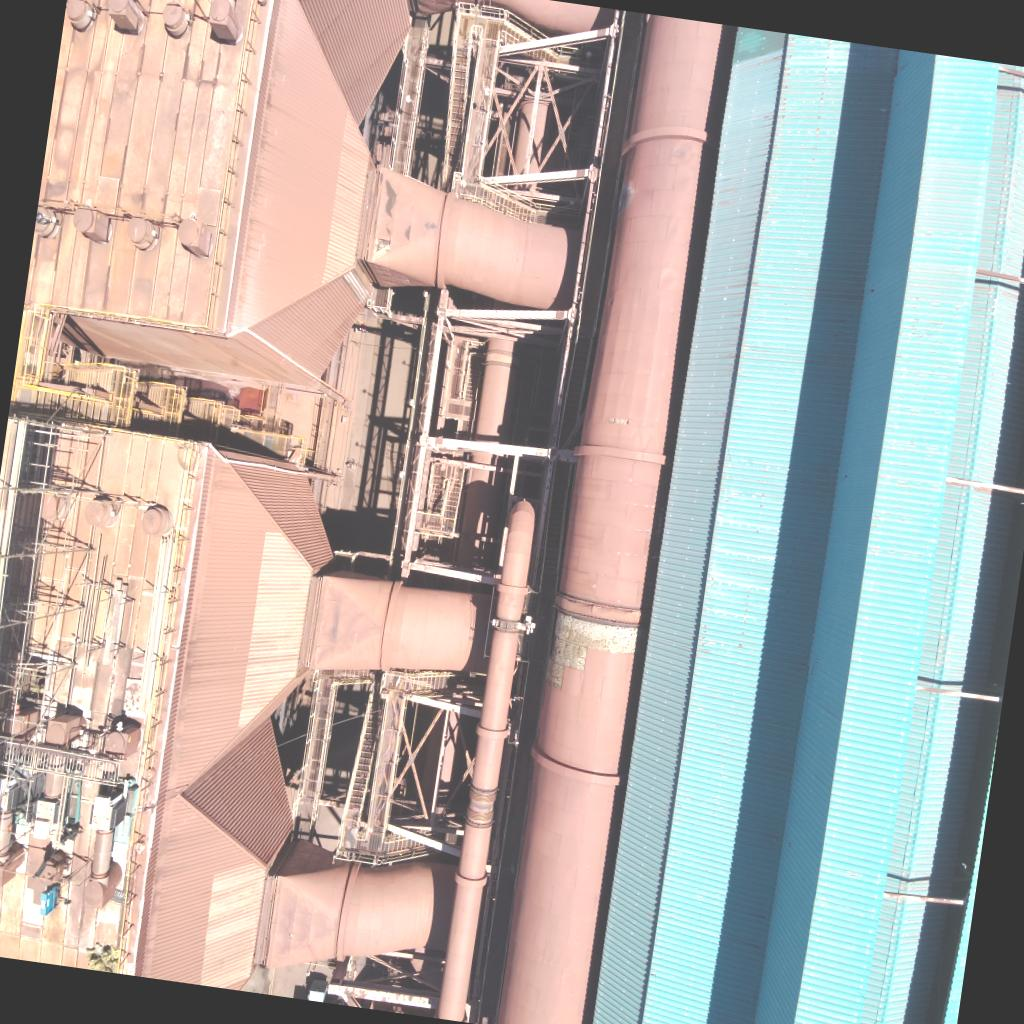Failures: (551, 610, 645, 656), (545, 644, 588, 674), (370, 236, 392, 266), (542, 668, 566, 694), (607, 414, 630, 428)
